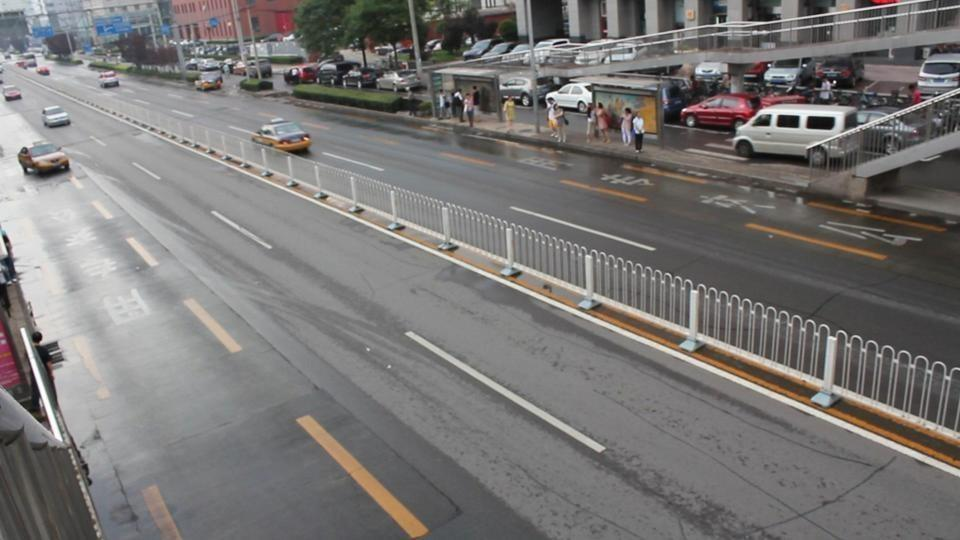car: (730, 104, 890, 161), (679, 95, 759, 132), (251, 119, 313, 155), (500, 76, 566, 107), (17, 141, 71, 177), (917, 52, 960, 97), (805, 58, 865, 87), (461, 39, 523, 62), (763, 62, 815, 89), (549, 83, 592, 113), (375, 71, 425, 93), (692, 62, 730, 90), (343, 69, 380, 89), (285, 64, 320, 85), (41, 105, 72, 128), (195, 73, 224, 91), (99, 73, 120, 88), (2, 86, 23, 101)
